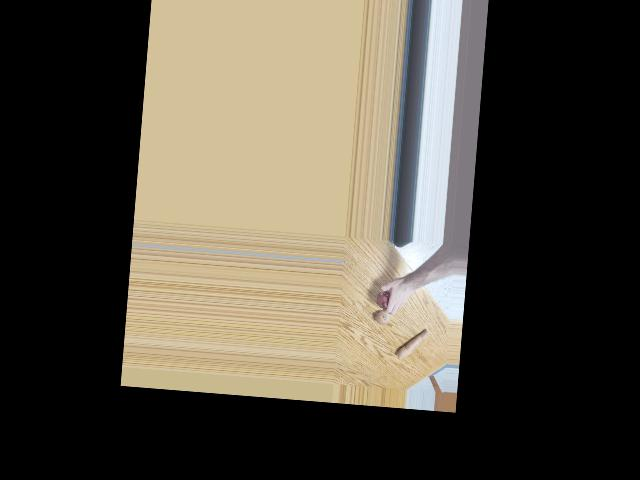onion: (373, 307, 390, 324)
